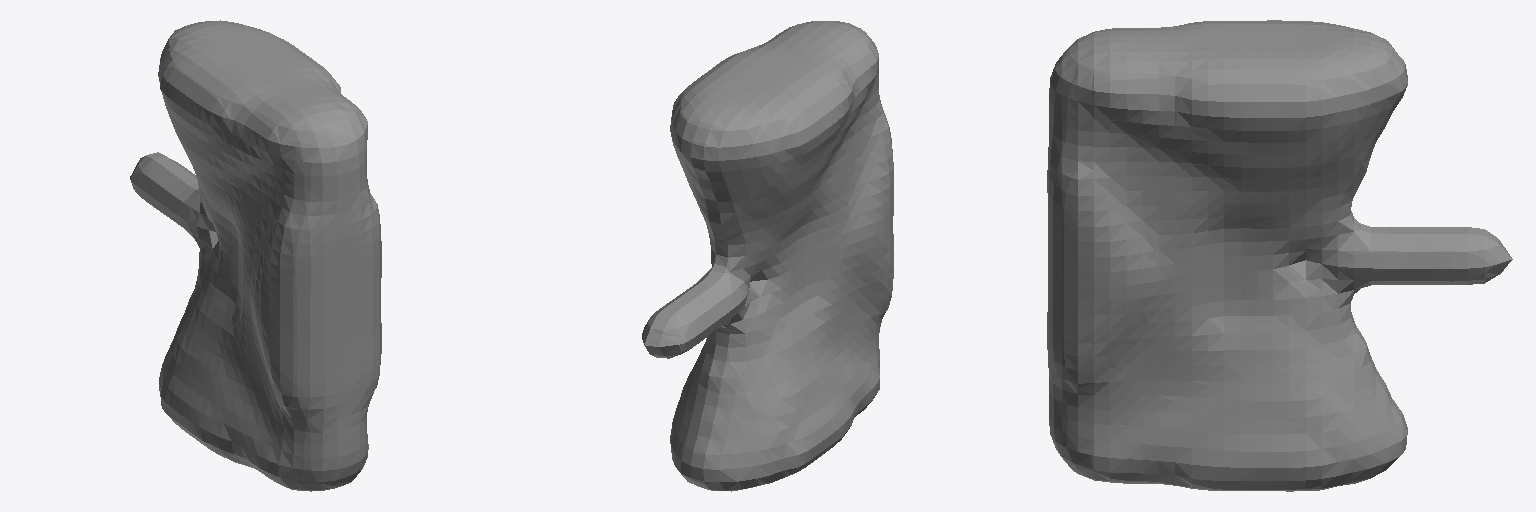
URDF robot description (cube.urdf):
<?xml version="0.0" ?> 
<robot name="cube.urdf"> 
<link name="legobrick"> 
<contact> 
<lateral_friction value="5.0"/> 
<rolling_friction value="0.0"/> 
<contact_cfm value="0.0"/> 
<contact_erp value="1.0"/> 
</contact> 
<inertial> 
<origin rpy="0 0 0" xyz="0.0 0.0 0.0"/> 
<mass value=".01"/> 
<inertia ixx="1" ixy="0" ixz="0" iyy="1" iyz="0" izz="1"/> 
</inertial> 
<visual> 
<origin rpy="1.570796 0 0" xyz="-0.026454722865155773 0.03292743731091381 -0.02643232756824511"/> 
<geometry> 
<mesh filename="U10_3.obj" scale="0.0005741092943446299 0.0005741092943446299 0.0005741092943446299"/> 
</geometry> 
<material name="yellow"> 
<color rgba="0.6 0.6 0.6 1"/> 
</material> 
</visual> 
<collision> 
<origin rpy="1.570796 0 0" xyz="-0.026454722865155773 0.03292743731091381 -0.02643232756824511"/> 
<geometry> 
<mesh filename="U10_3.obj" scale="0.0005741092943446299 0.0005741092943446299 0.0005741092943446299"/> 
</geometry> 
</collision> 
</link> 
</robot>

--- Facts derived from the render (not from the file) ---
The picture shows the robot from 3 angles, left to right: view 1: azimuth 30°, elevation 25°; view 2: azimuth 150°, elevation 25°; view 3: azimuth 270°, elevation 25°; orthographic projection.
Model cube.urdf with 1 links and 0 joints (none), rooted at legobrick, posed all joints at 0.
Visible links, largest first — view 1: legobrick; view 2: legobrick; view 3: legobrick.
Link boxes in pixels (x1=…): legobrick: x1=130, y1=20, x2=381, y2=491; legobrick: x1=642, y1=21, x2=893, y2=491; legobrick: x1=1047, y1=20, x2=1512, y2=491.
Size in the robot's own frame: 0.0212 by 0.056 by 0.0574 metres.
1 mesh visuals loaded from 1 distinct referenced files (1 OBJ).
